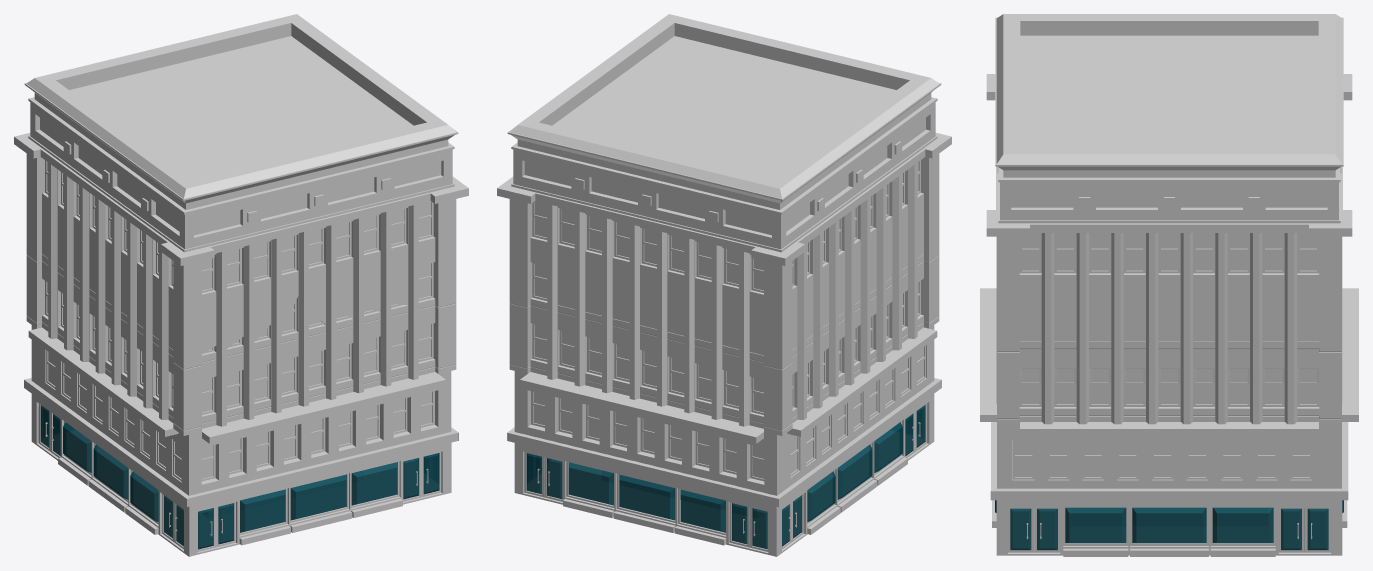
The model's file is building_office_four_sided_01_small.fbx.
3 renders of one model, left to right at view 1: azimuth 30°, elevation 25°; view 2: azimuth 150°, elevation 25°; view 3: azimuth 270°, elevation 25°, orthographic. The views are drawn at different scales.
Parts seen in each view (by area): view 1: building_office_four_sided_01_small, building_office_four_sided_01_floor_small_glass; view 2: building_office_four_sided_01_small, building_office_four_sided_01_floor_small_glass; view 3: building_office_four_sided_01_small, building_office_four_sided_01_floor_small_glass.
Part boxes in pixels (left/top/right/bottom): building_office_four_sided_01_small: left=14, top=14, right=468, bottom=556; building_office_four_sided_01_floor_small_glass: left=40, top=405, right=439, bottom=549; building_office_four_sided_01_small: left=497, top=14, right=951, bottom=556; building_office_four_sided_01_floor_small_glass: left=526, top=405, right=925, bottom=549; building_office_four_sided_01_small: left=980, top=14, right=1358, bottom=556; building_office_four_sided_01_floor_small_glass: left=995, top=500, right=1343, bottom=550.
Size of the model in its own units: 1985 by 2400 by 2054.
